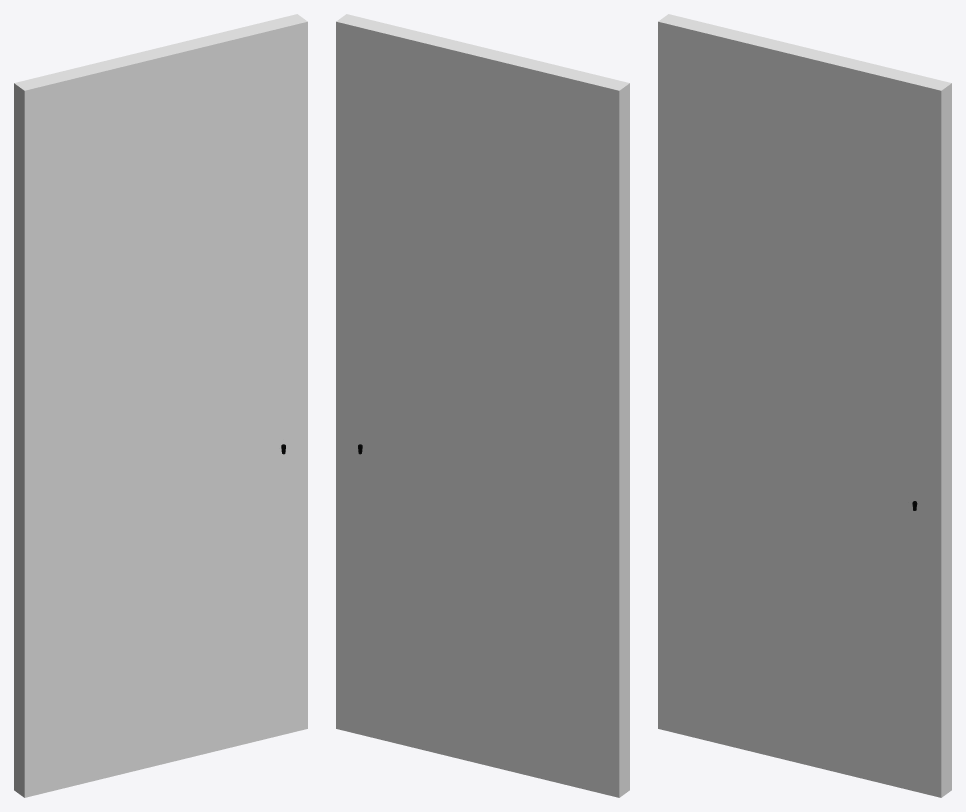
Rendered from Door00.fbx.
3 renders of one model, left to right at view 1: azimuth 30°, elevation 25°; view 2: azimuth 150°, elevation 25°; view 3: azimuth 330°, elevation 25°, orthographic.
Parts seen in each view (by area): view 1: Door00; view 2: Door00; view 3: Door00.
Boxes of the visible parts, box(x1,y1,x2,y2) form: Door00: box(14, 14, 307, 797); Door00: box(336, 14, 629, 797); Door00: box(658, 14, 951, 797).
Bounding box in the file's own units: 78 × 186 × 6.71.
